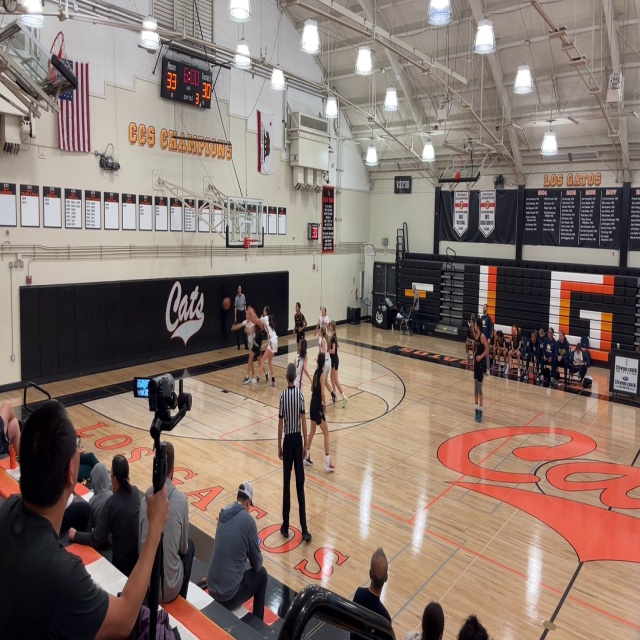Basketball: (222, 297, 231, 310)
